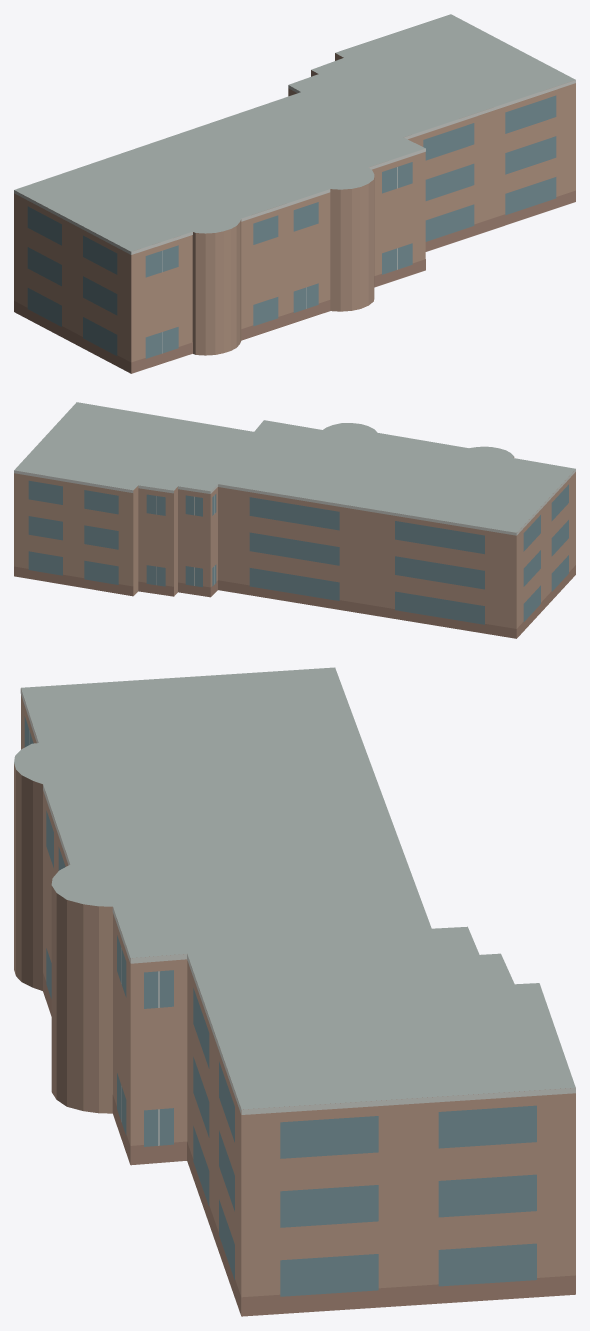
File: survey-upis-32714592.glb
3 views of the same model, one above another, from view 1: azimuth 30°, elevation 25°; view 2: azimuth 150°, elevation 25°; view 3: azimuth 270°, elevation 25° (orthographic). The views are drawn at different scales.
Parts seen in each view (by area): view 1: survey-upis-32714592.tmp; view 2: survey-upis-32714592.tmp; view 3: survey-upis-32714592.tmp.
Boxes of the visible parts, x1=… form: survey-upis-32714592.tmp: x1=14, y1=14, x2=575, y2=373; survey-upis-32714592.tmp: x1=14, y1=402, x2=575, y2=638; survey-upis-32714592.tmp: x1=14, y1=667, x2=575, y2=1316.
Bounding box in the file's own units: 41.94 × 9.15 × 22.52.
